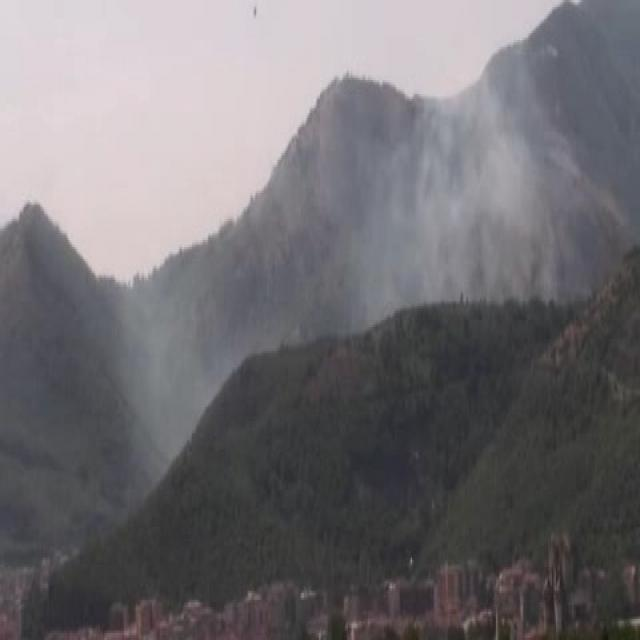smoke: (368, 82, 556, 305)
